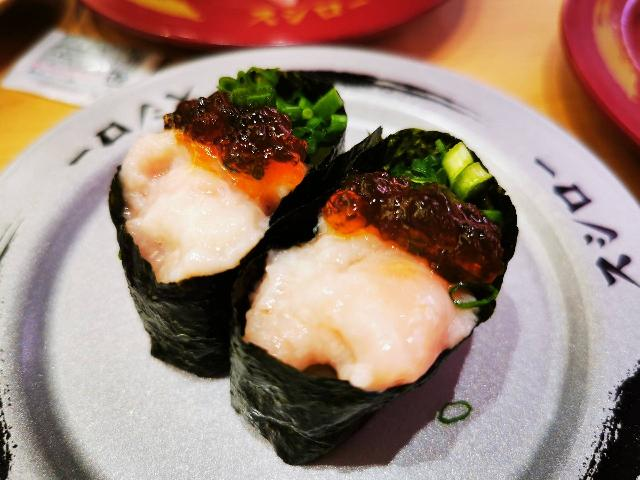janwhite: (518, 144, 640, 480), (96, 406, 566, 480), (0, 168, 105, 480), (0, 70, 178, 171), (361, 49, 535, 145)
